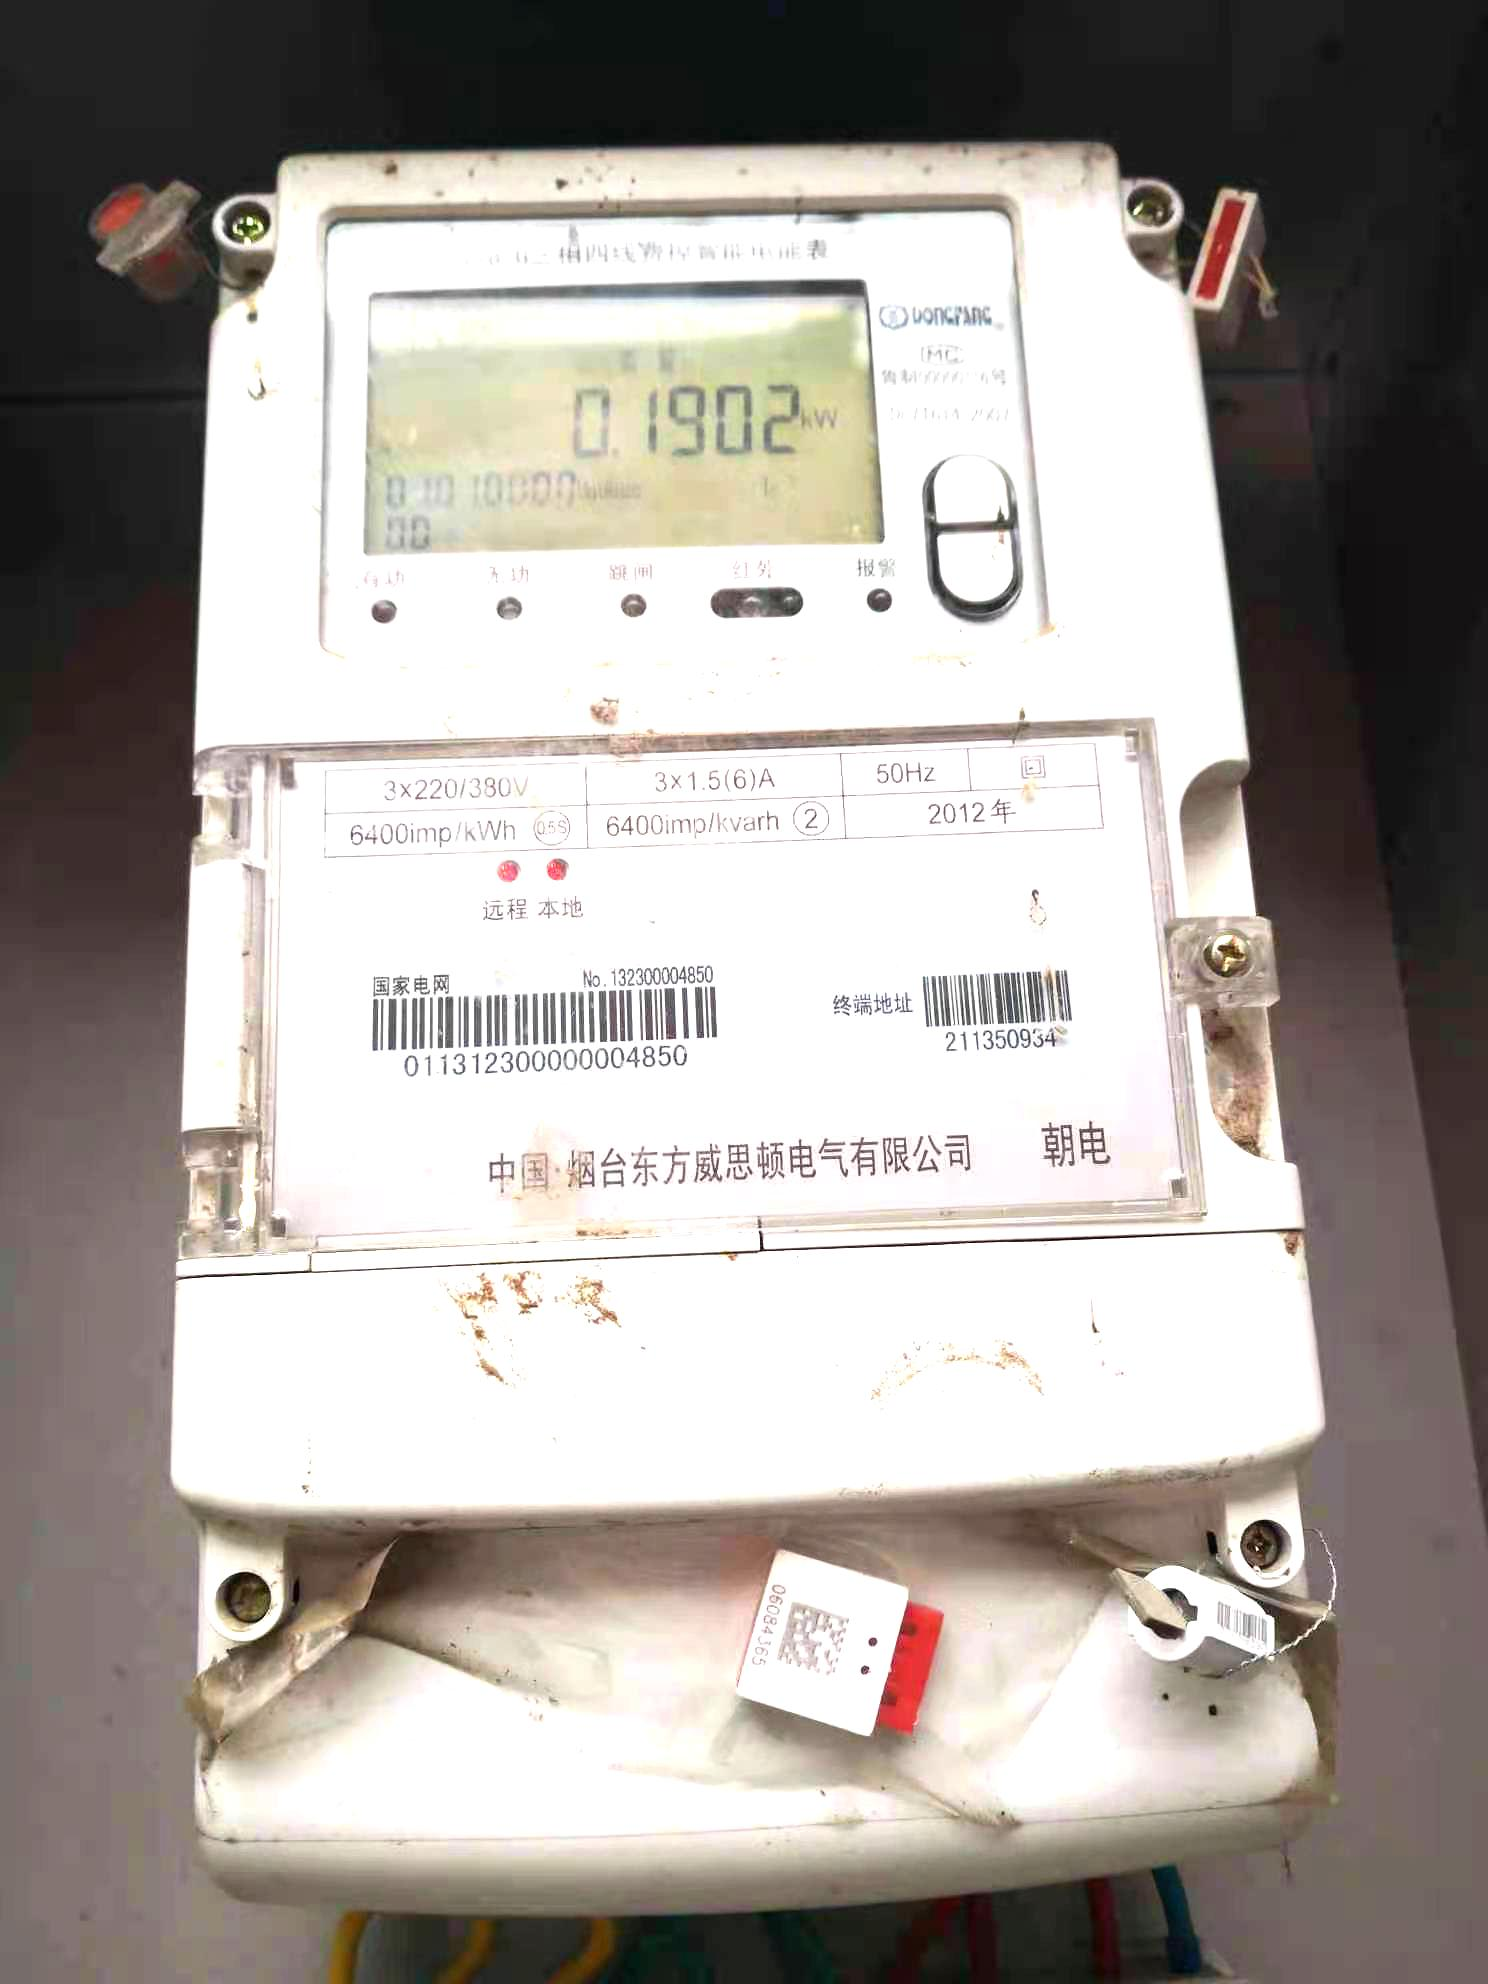digital: (169, 142, 1325, 1517)
